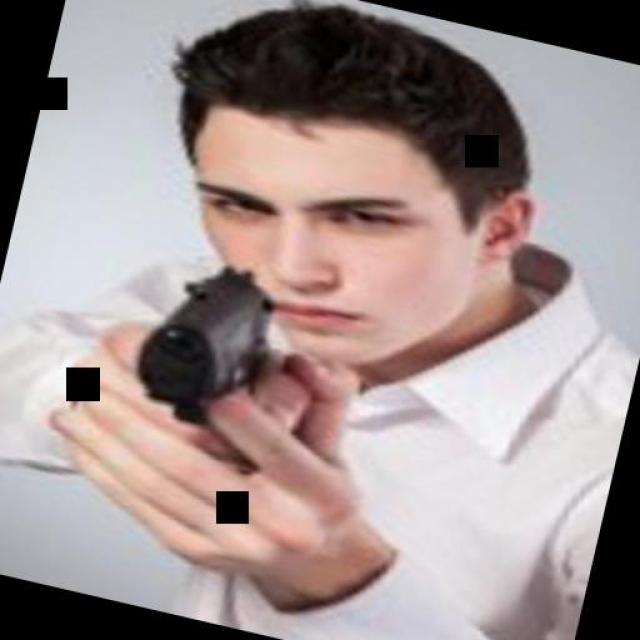gun: (111, 233, 294, 458)
